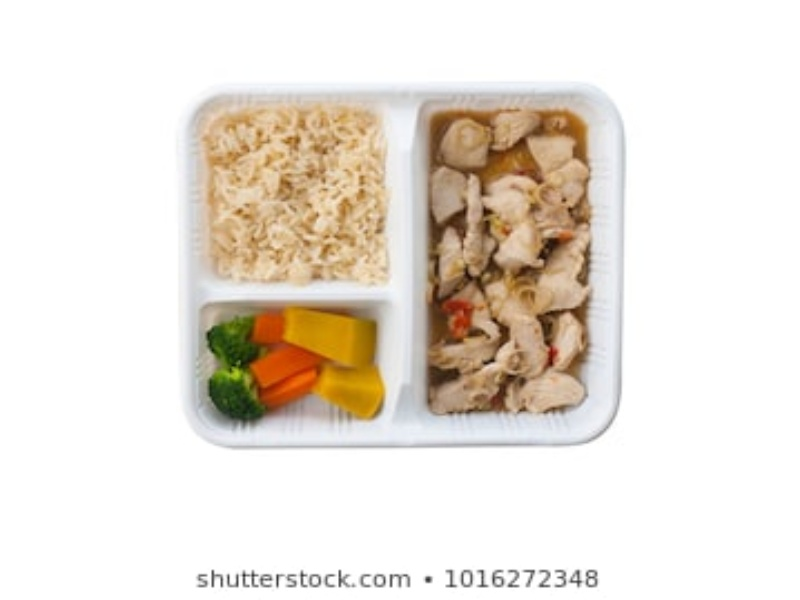plastic-plate: (170, 85, 627, 444)
